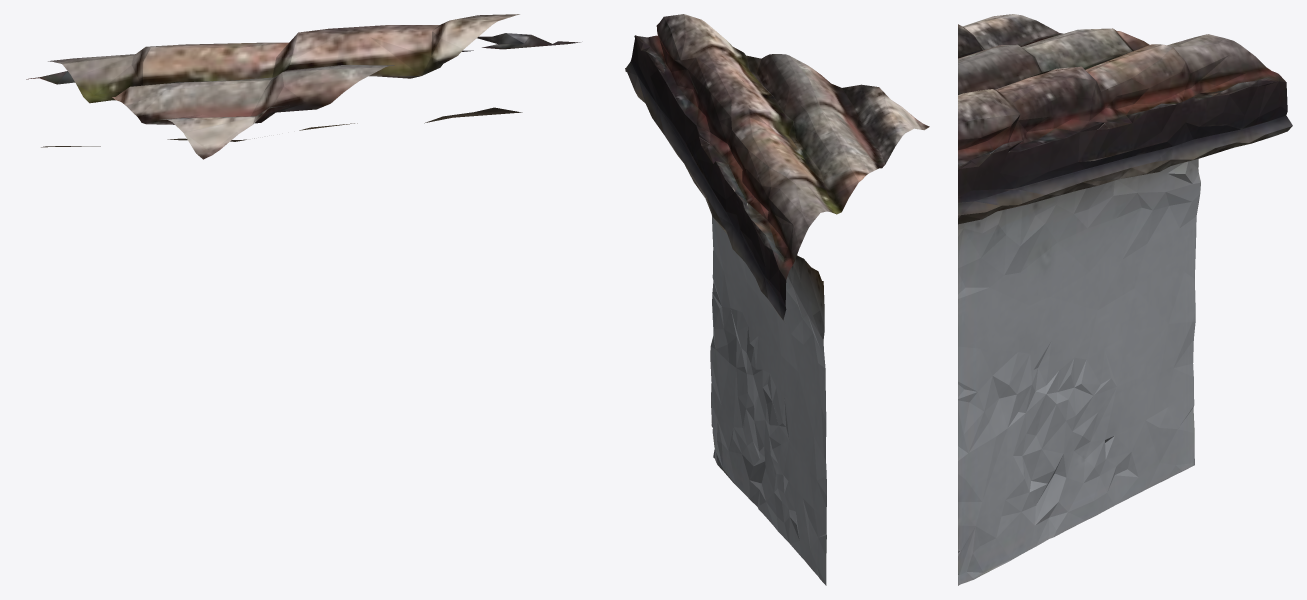
The picture shows the model from 3 angles, left to right: view 1: azimuth 30°, elevation 25°; view 2: azimuth 150°, elevation 25°; view 3: azimuth 270°, elevation 25°; orthographic projection. The views are drawn at different scales.
Size of the model in its own units: 1.08 by 1.47 by 0.895.
Materials: 2 (2 with a texture image).
